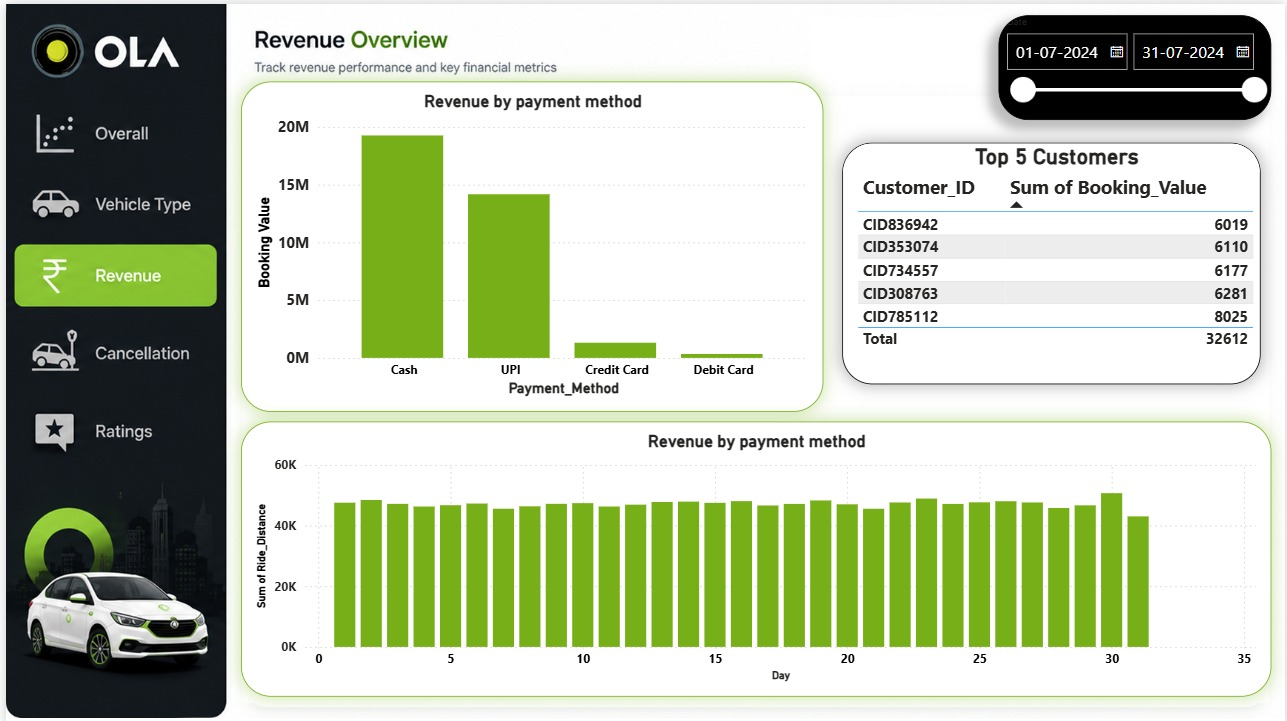

The page's visual inventory and layout, read from the dashboard file:
{"tool":"powerbi","page":{"name":"Revenue","canvas":[1280,720],"ordinal":2},"visuals":[{"type":"actionButton","box":[0,99.4,221.9,59.4],"z":0},{"type":"actionButton","box":[0.6,169.4,221.2,56.9],"z":1000},{"type":"actionButton","box":[0.6,305,221.2,75],"z":2000},{"type":"actionButton","box":[0.6,395,216.9,70.6],"z":3000},{"type":"columnChart","title":"Revenue by payment method","fields":{"Y":["Sum(July.Booking_Value)"],"Category":["July.Payment_Method"]},"box":[235,77.5,582.5,330],"z":4000},{"type":"columnChart","title":"Revenue by payment method","fields":{"Category":["July.Date.Variation.Date Hierarchy.Day"],"Y":["Sum(July.Ride_Distance)"]},"box":[235,417.5,1030,275],"z":5000},{"type":"slicer","title":"DATE","fields":{"Values":["July.Date"]},"box":[992.5,11.2,272.5,105],"z":6000},{"type":"tableEx","title":"Top 5 Customers","fields":{"Values":["July.Customer_ID","Sum(July.Booking_Value)"]},"box":[836.2,138.8,418.8,241.2],"z":7000}]}

Visuals, with their boxes in screenshot pixels (x1, y1, x2, y2), scaled from the page's 1280x720 canvas onto the 1287x721 screenshot:
actionButton: (0,100,223,159)
actionButton: (1,170,223,227)
actionButton: (1,305,223,381)
actionButton: (1,396,219,466)
"Revenue by payment method" columnChart: (236,78,822,408)
"Revenue by payment method" columnChart: (236,418,1272,693)
"DATE" slicer: (998,11,1272,116)
"Top 5 Customers" tableEx: (841,139,1262,381)
